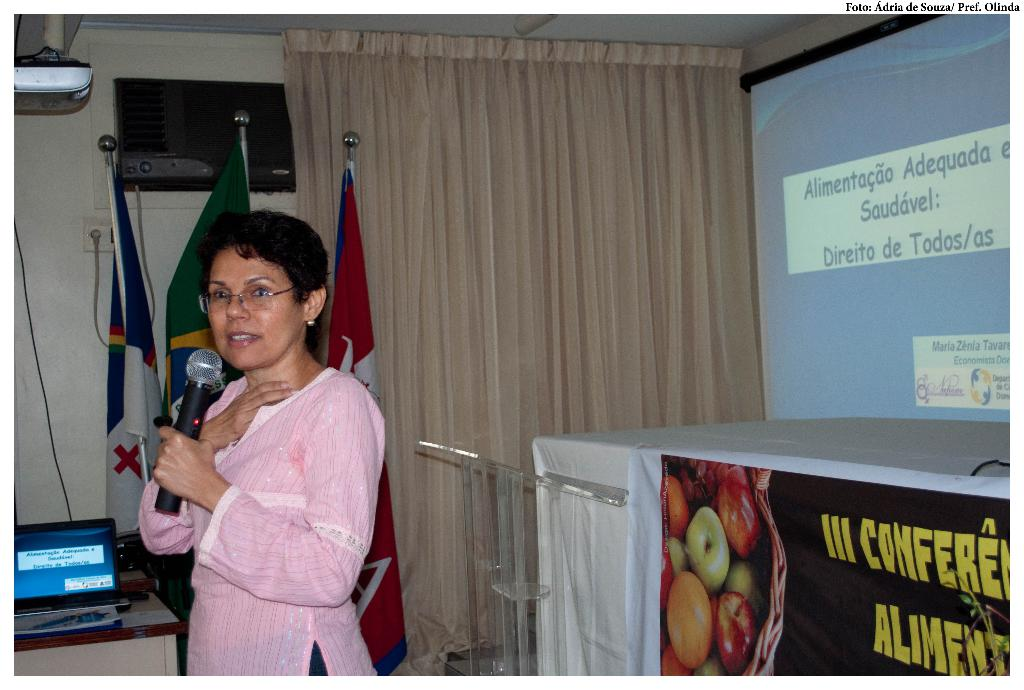Apple: (716, 464, 762, 557), (681, 508, 728, 590), (717, 589, 753, 673), (718, 561, 767, 603)
